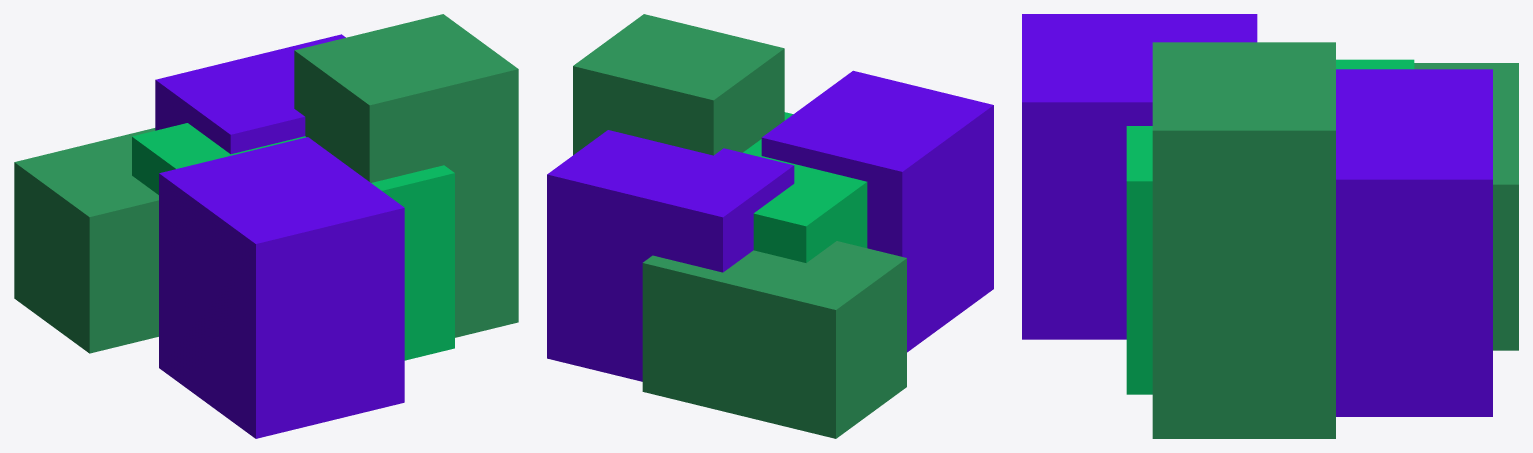
The model's file is GRock2.dae.
3 renders of one model, left to right at view 1: azimuth 30°, elevation 25°; view 2: azimuth 150°, elevation 25°; view 3: azimuth 270°, elevation 25°, orthographic. The views are drawn at different scales.
Parts seen in each view (by area): view 1: GRock2; view 2: GRock2; view 3: GRock2.
Part boxes in pixels (x1,y1,x2,y2): GRock2: (14,14,518,438); GRock2: (547,14,993,438); GRock2: (1022,14,1518,438).
Size of the model in its own units: 1.9 by 1.3 by 1.9.
Materials: 1 (1 with a texture image).
